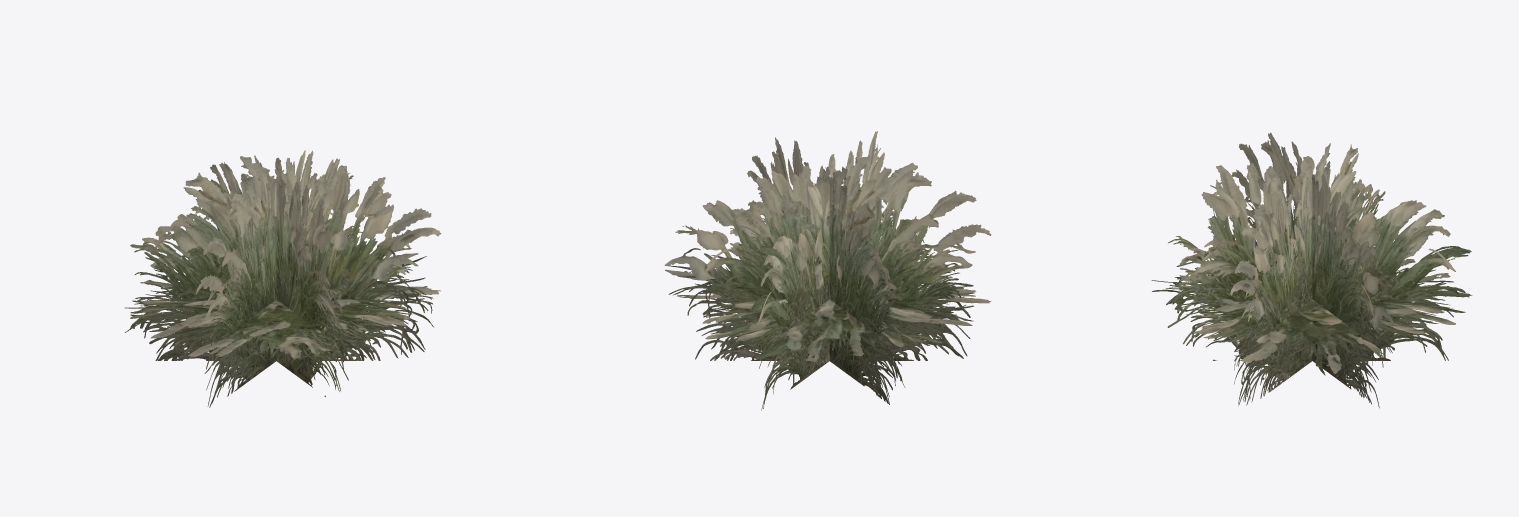
Rendered from plant_grass.glb.
3 views of the same model, side by side, from view 1: azimuth 30°, elevation 25°; view 2: azimuth 150°, elevation 25°; view 3: azimuth 270°, elevation 25° (orthographic).
Visible parts, largest first — view 1: leaf_grass; view 2: leaf_grass; view 3: leaf_grass.
Part boxes in pixels (box(x1,y1,x2,y2)): leaf_grass: box(124, 150, 441, 407); leaf_grass: box(664, 131, 991, 410); leaf_grass: box(1151, 132, 1472, 408).
Bounding box in the file's own units: 1.88 × 1.88 × 1.88.
1 material, 1 textured.
